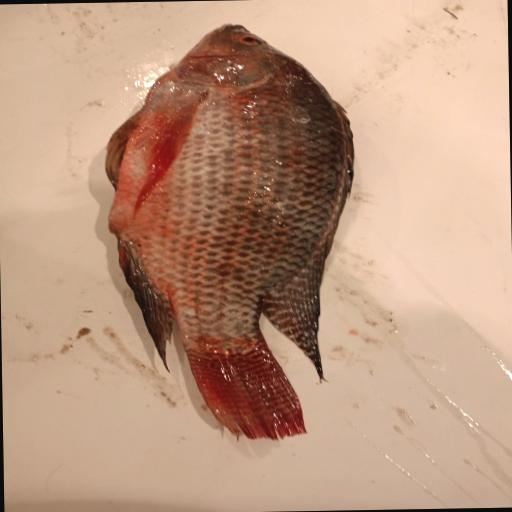Tilapia: (103, 21, 359, 445)
